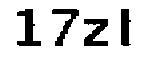1: (10, 6, 44, 49)
7: (49, 4, 80, 52)
I: (114, 3, 142, 50)
z: (83, 19, 111, 49)
